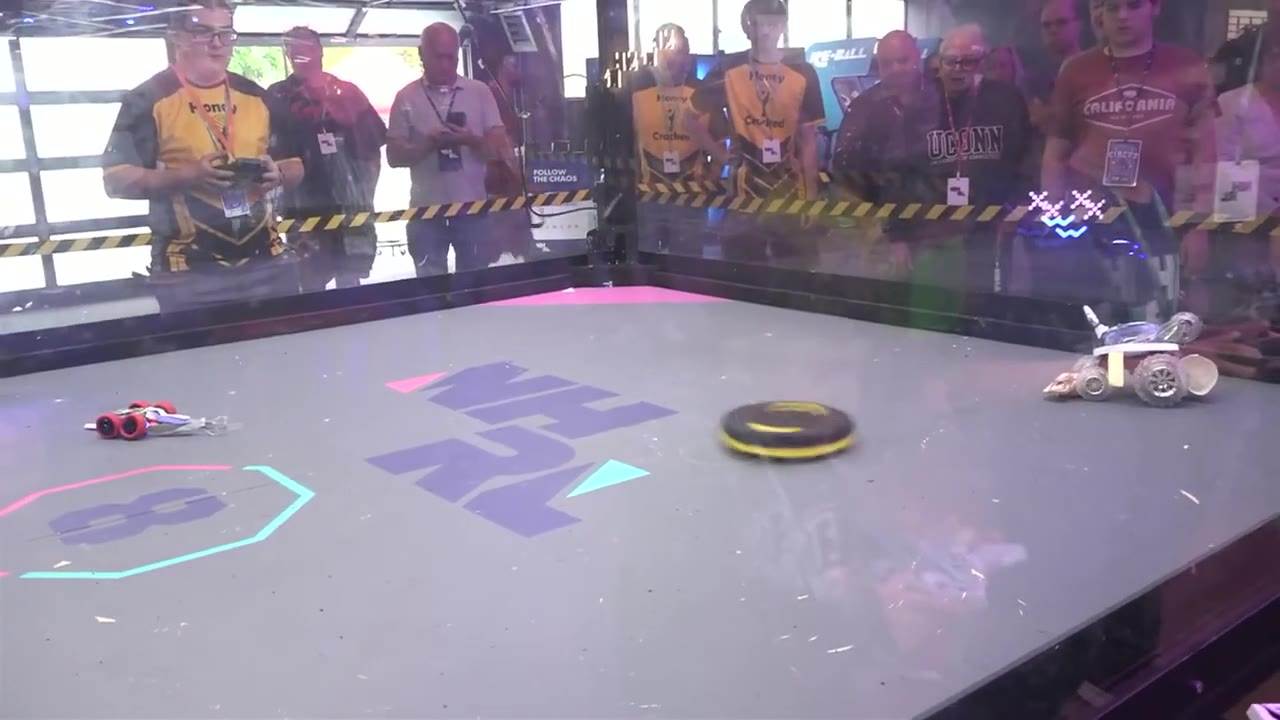combatbot: (1042, 306, 1218, 409), (715, 400, 860, 462)
minibot: (87, 401, 223, 442)
